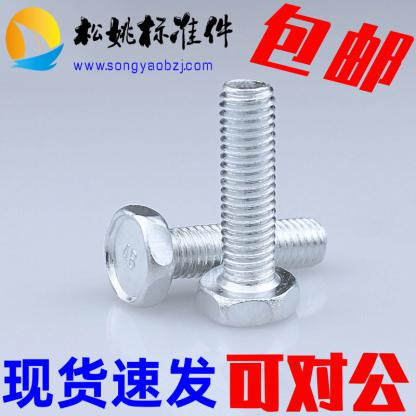FOD: (195, 77, 303, 326), (102, 203, 327, 309)
